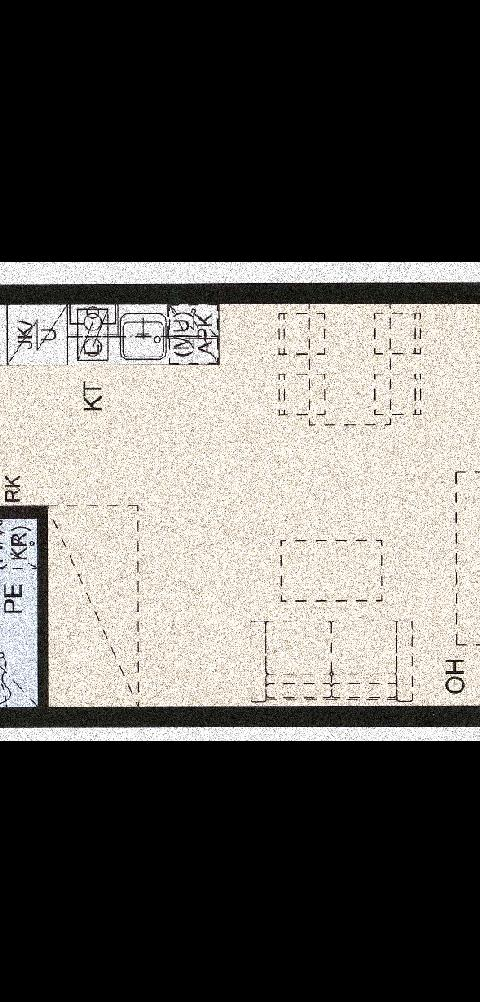zone: (0, 307, 480, 706)
